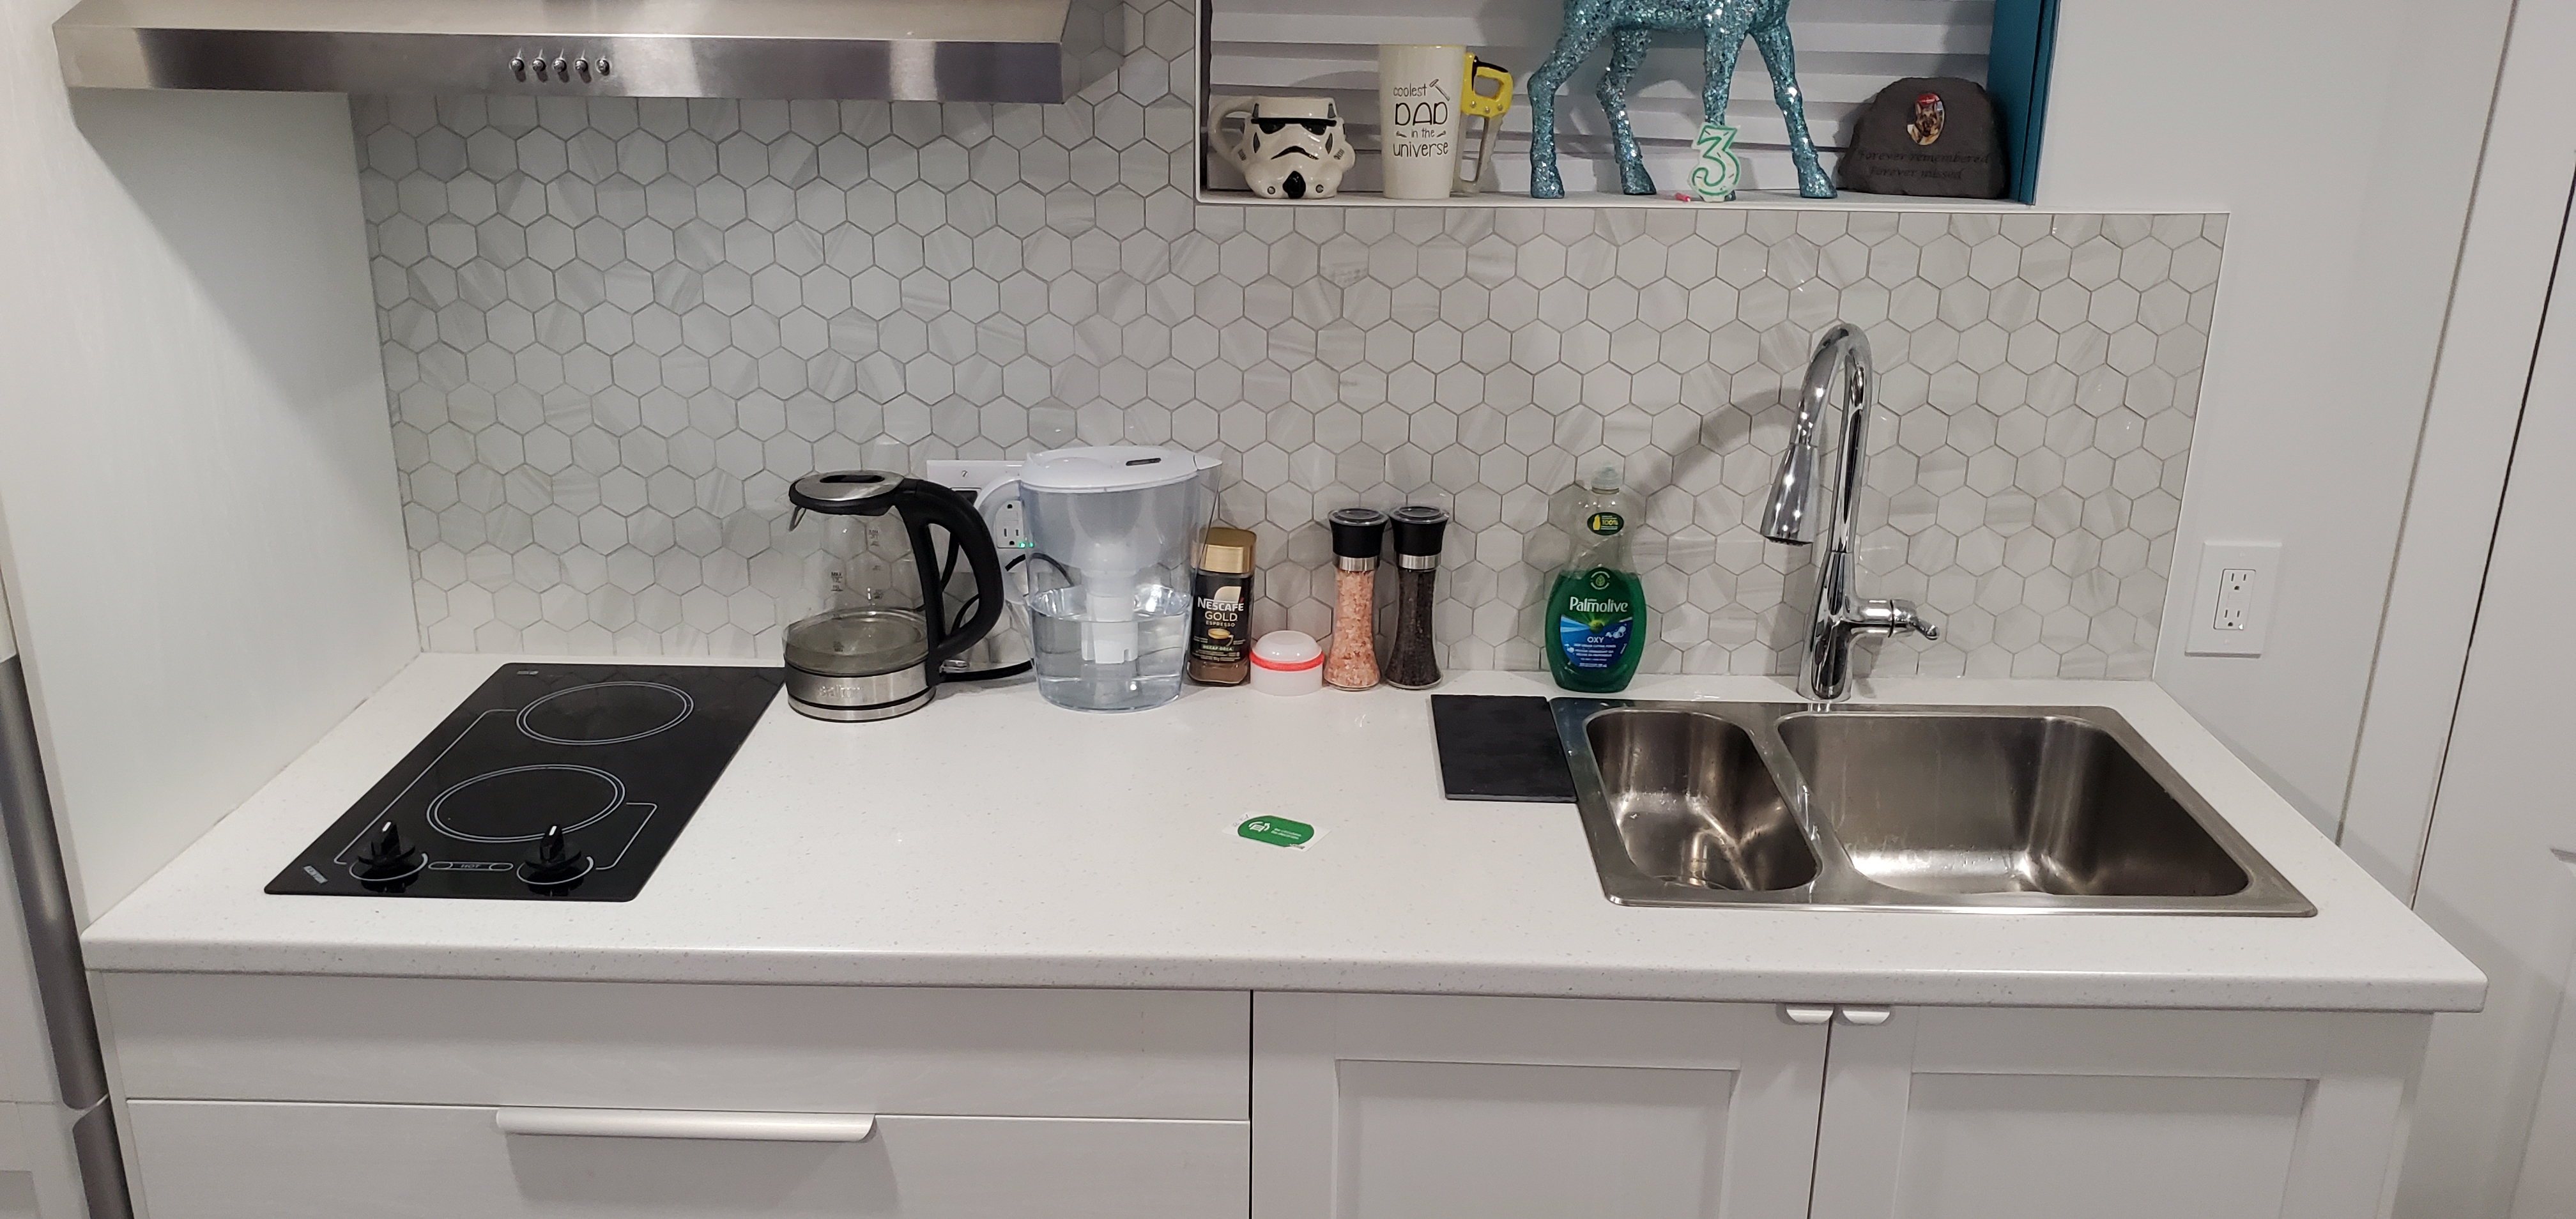cooktop: (253, 651, 812, 904)
giftcard: (1221, 800, 1334, 862)
sink: (1549, 683, 2334, 923)
